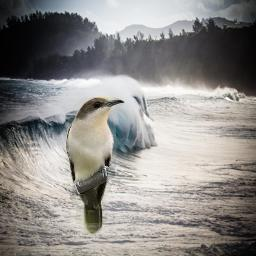Cuckoo: (66, 97, 125, 236)
